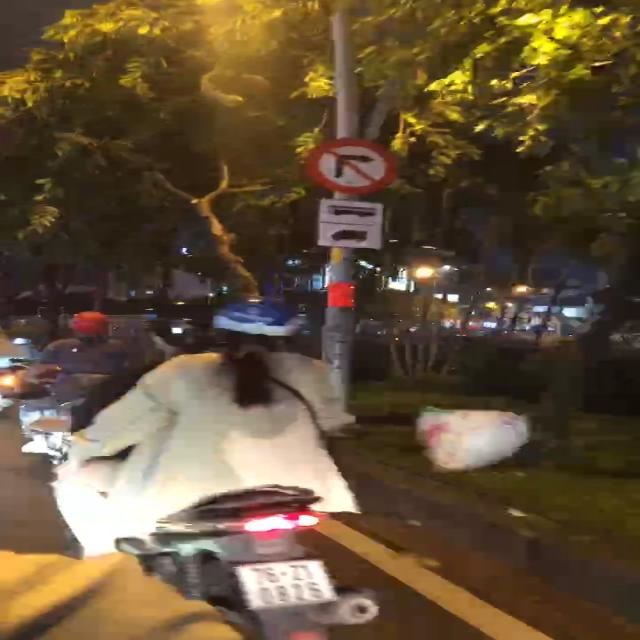Bien bao cam re phai: (297, 134, 398, 196)
